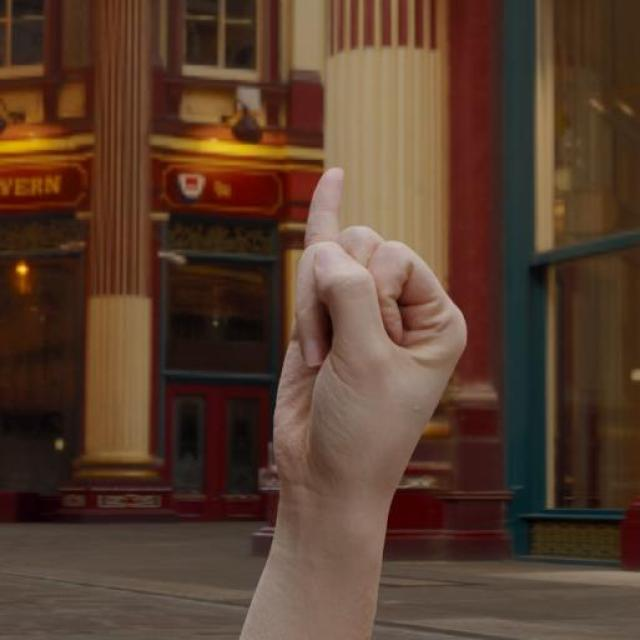I: (269, 164, 468, 504)
